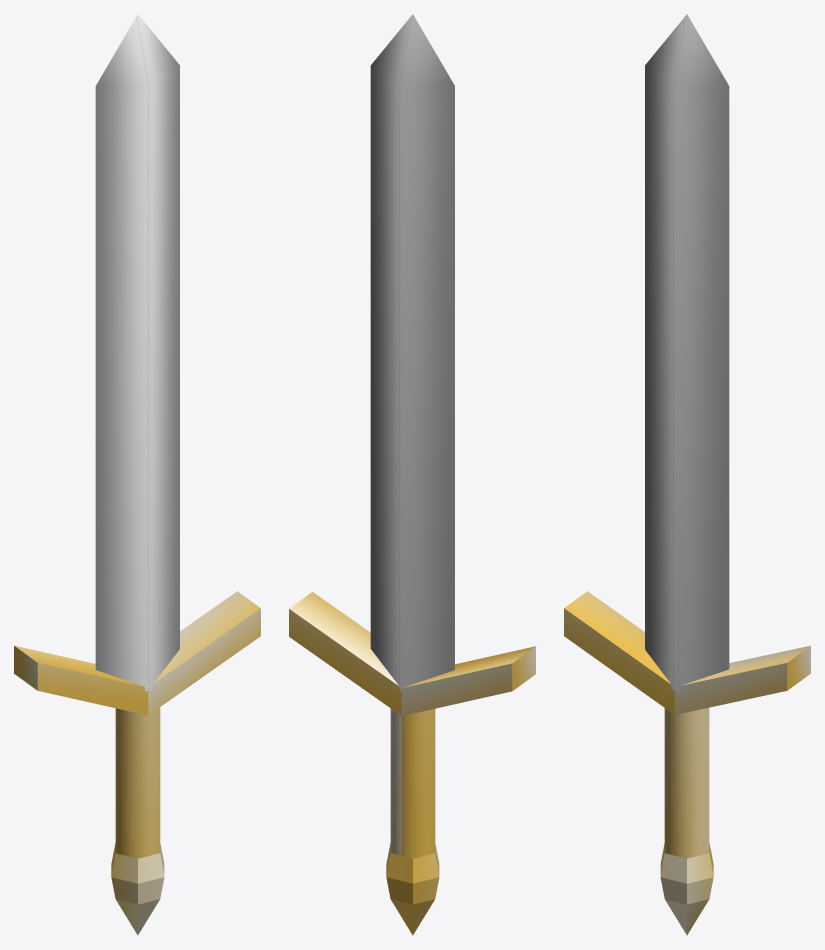
File: paladinSword.FBX
3 renders of one model, left to right at view 1: azimuth 30°, elevation 25°; view 2: azimuth 150°, elevation 25°; view 3: azimuth 330°, elevation 25°, orthographic.
Visible parts, largest first — view 1: Box002, Box001, Cylinder001; view 2: Box002, Box001, Cylinder001; view 3: Box002, Box001, Cylinder001.
Boxes of the visible parts, x1,y1,x2,y2 form: Box002: (95,14,179,691); Box001: (14,591,260,715); Cylinder001: (111,707,164,935); Box002: (370,14,454,690); Box001: (289,592,535,715); Cylinder001: (386,708,439,935); Box002: (645,14,729,691); Box001: (564,591,810,714); Cylinder001: (660,707,713,935).
Bounding box in the file's own units: 15 × 59.16 × 3.09.
